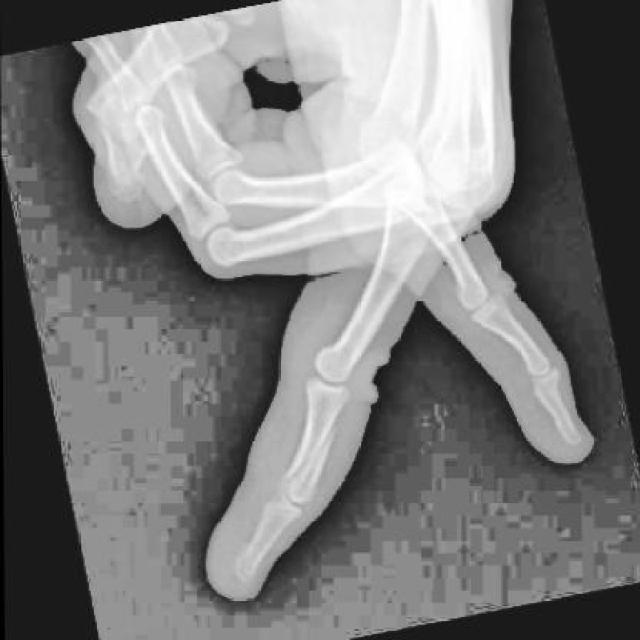Fracture: (271, 425, 356, 513)
